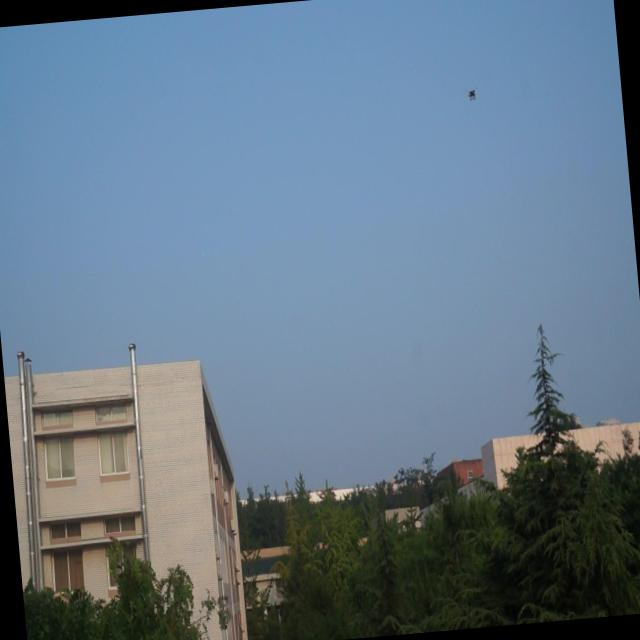drone: (467, 84, 478, 102)
